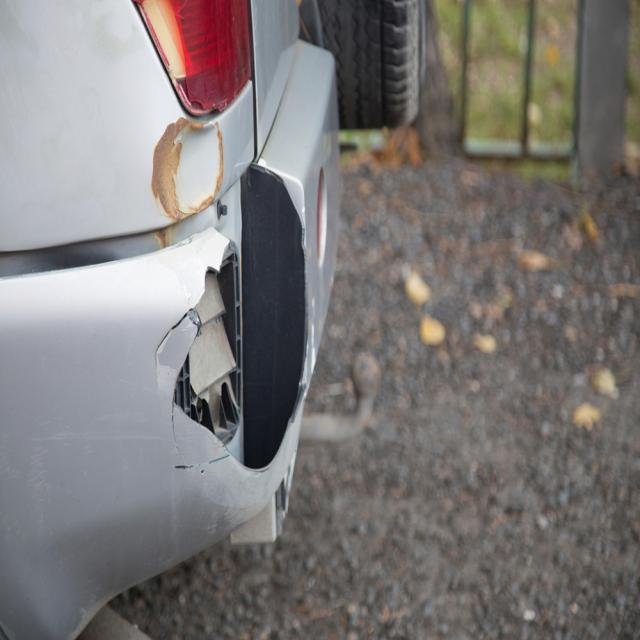crack: (155, 307, 195, 387), (171, 396, 181, 459)
dent: (169, 119, 225, 216)
lamp broken: (131, 0, 253, 115)
scratch: (173, 452, 278, 532)
